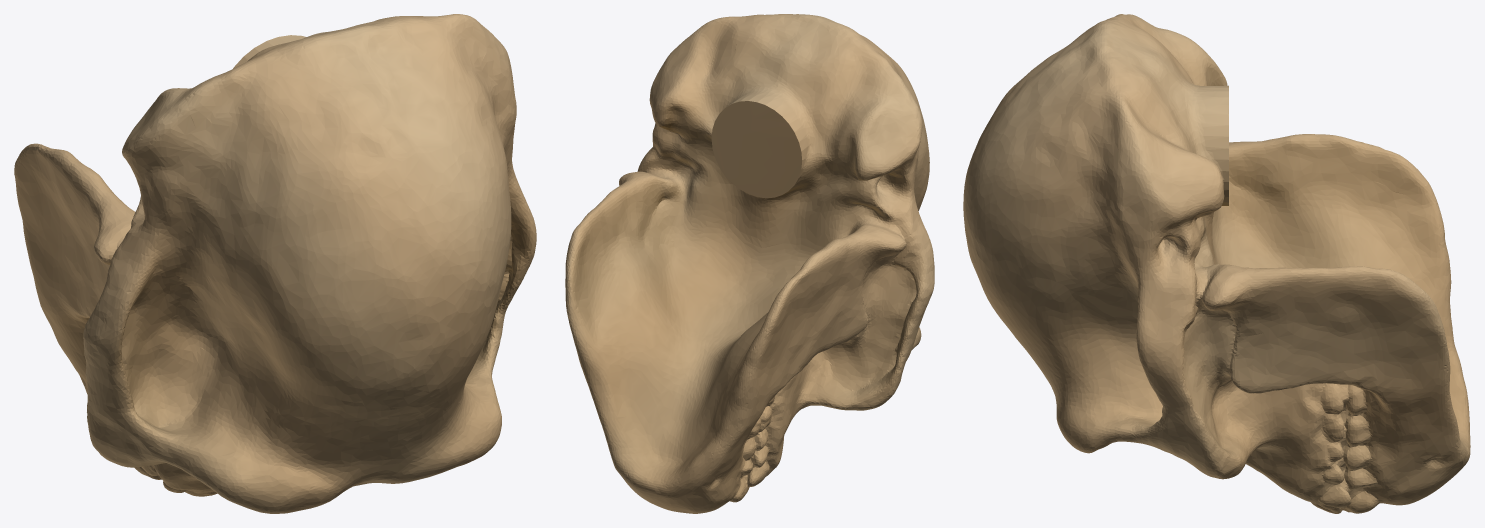
Rendered from afarensis.glb.
3 views of the same model, side by side, from view 1: azimuth 30°, elevation 25°; view 2: azimuth 150°, elevation 25°; view 3: azimuth 270°, elevation 25° (orthographic). The views are drawn at different scales.
Size of the model in its own units: 32 by 40.8 by 40.07.
